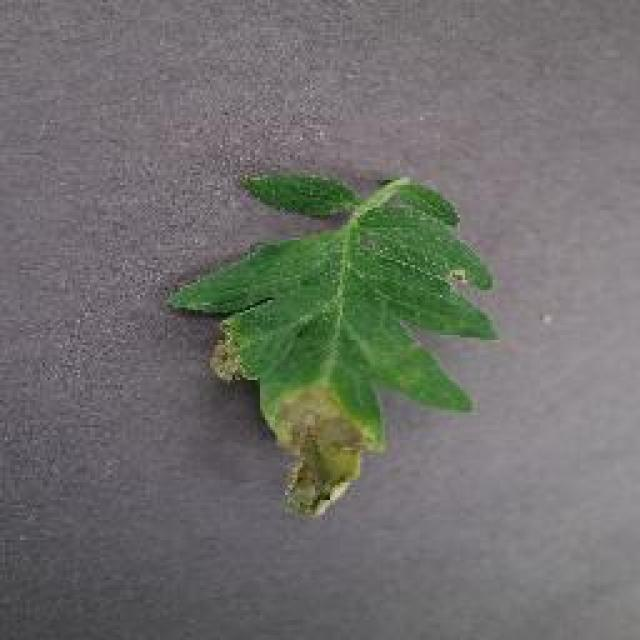Tomato Late Blight: (227, 343, 408, 537)
